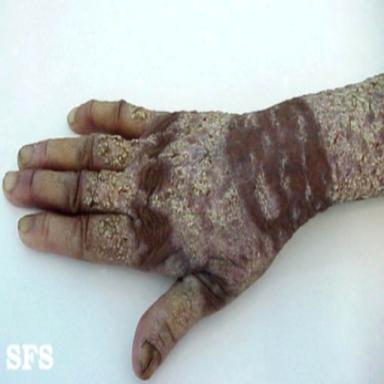Darier_s-Disease: (79, 104, 287, 308), (301, 75, 384, 204), (132, 275, 204, 381)
